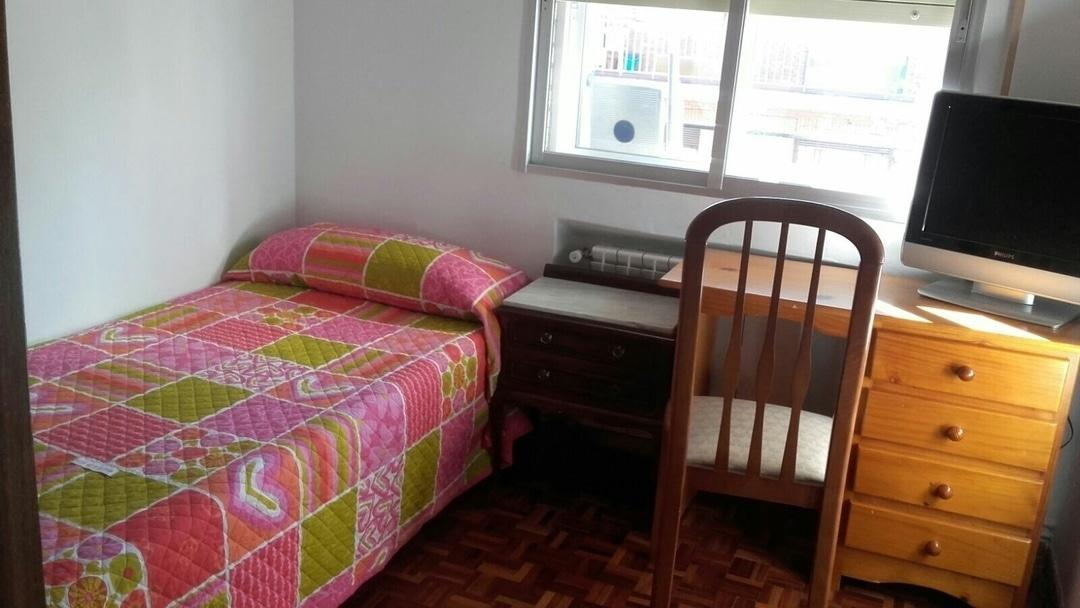bed: (0, 160, 461, 507)
